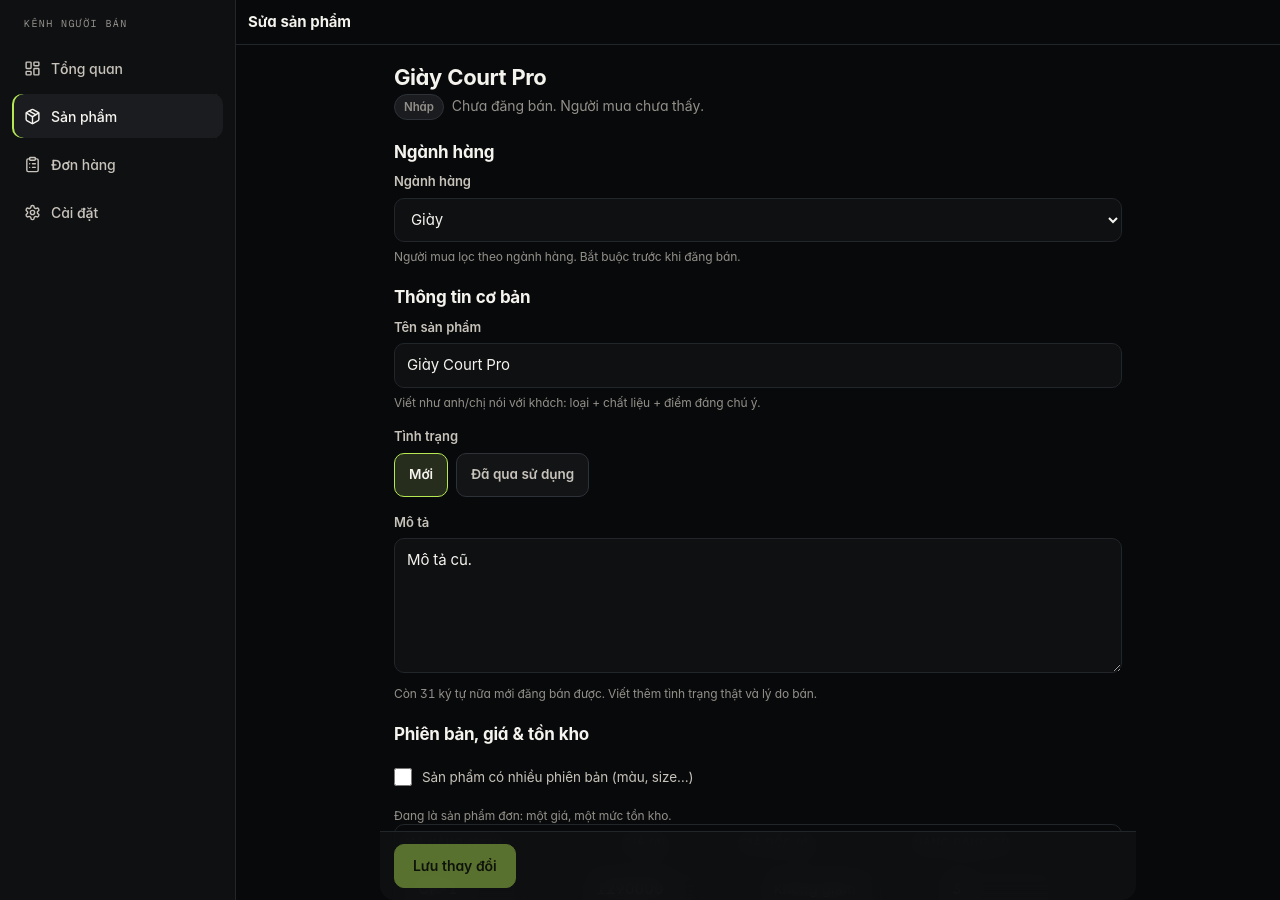
Test: no save branch can strand the button on Đang lưu… › refuses to save an invalid draft without ever entering the saving state
The width and height of the screenshot is (1280, 900).
Replace the text in the field labelled "Tên sản phẩm" with "x". click: (758, 365)
box: [394, 343, 1122, 388]
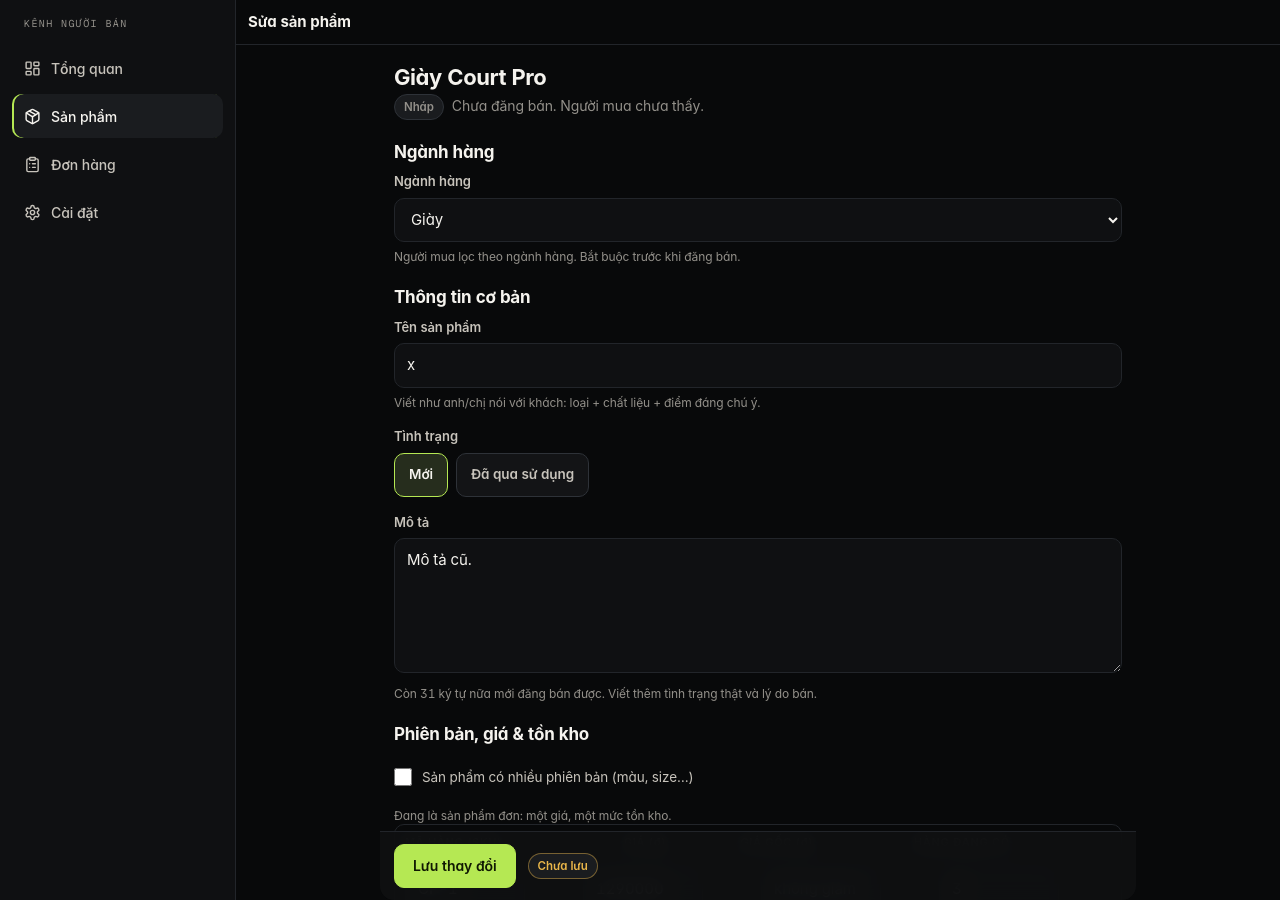
Click the button "Lưu thay đổi". click: (455, 866)
box: [394, 844, 516, 888]
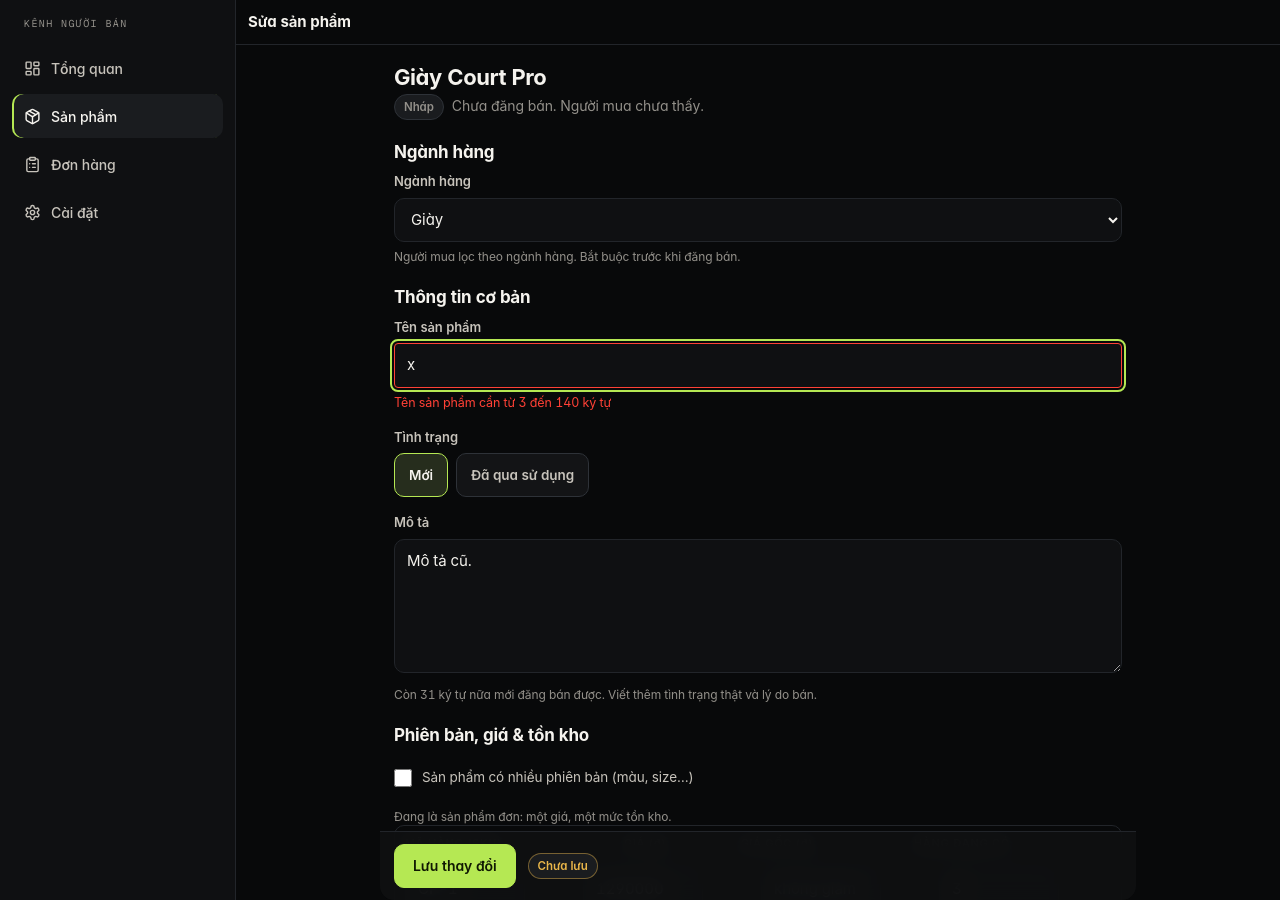
Now the button "Lưu thay đổi" is enabled, box [394, 844, 516, 888]
Now the text "Tên sản phẩm cần từ 3 đến 140 ký tự" is shown, box [394, 395, 611, 410]
